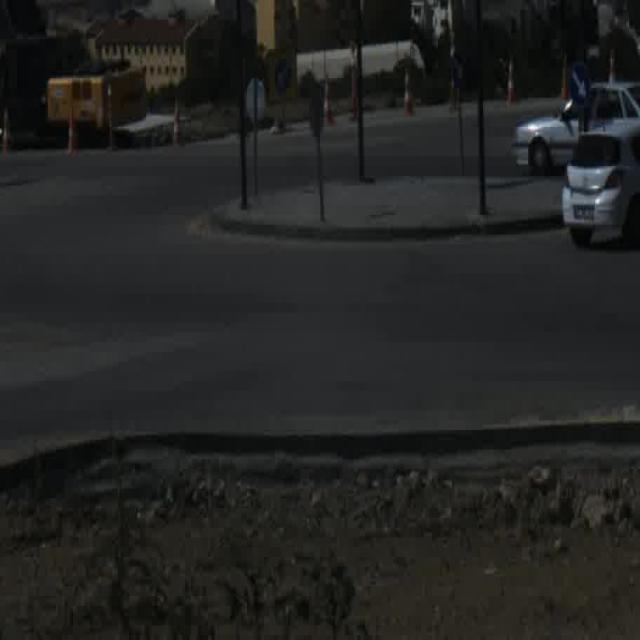Car: (509, 80, 640, 174), (562, 126, 640, 254)
